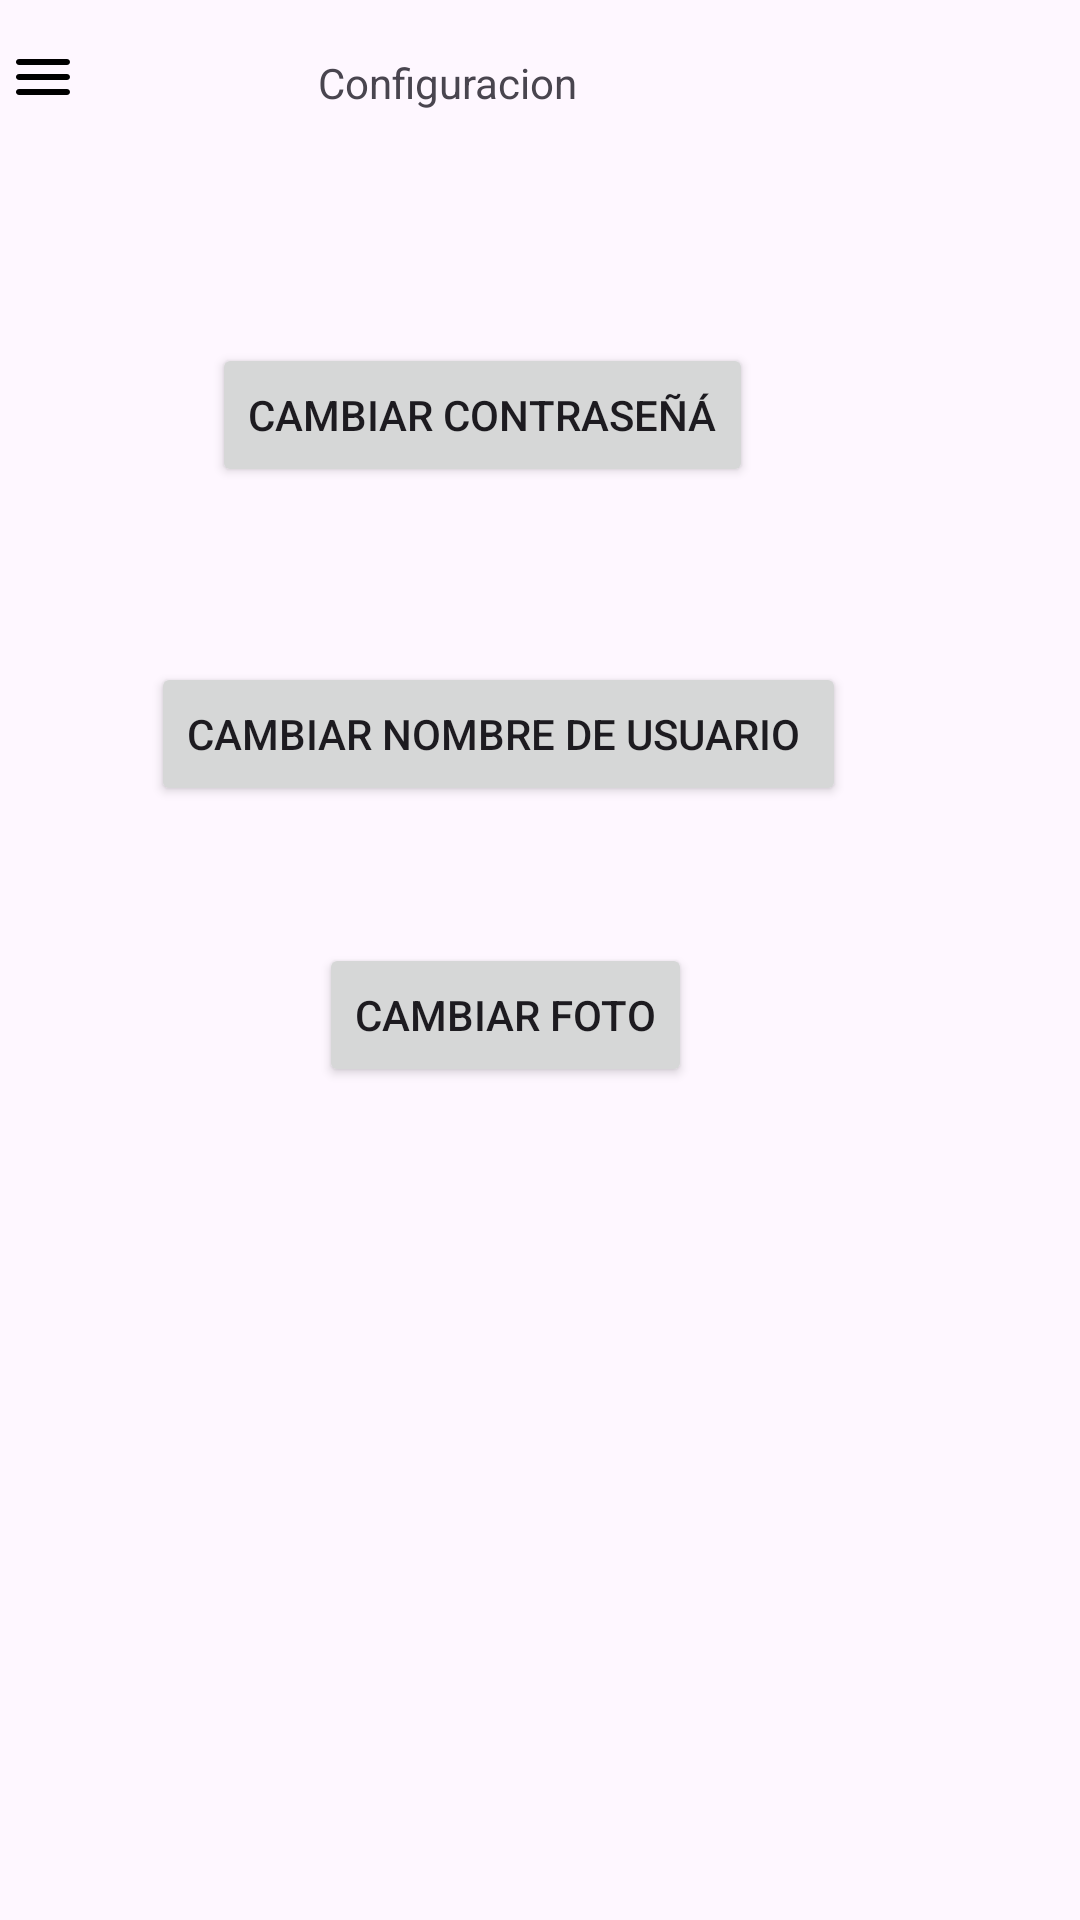

Screen size 1080w x 1920h. Icon name, then its center in pixels as point (x, y):
menu: point (43, 77)
